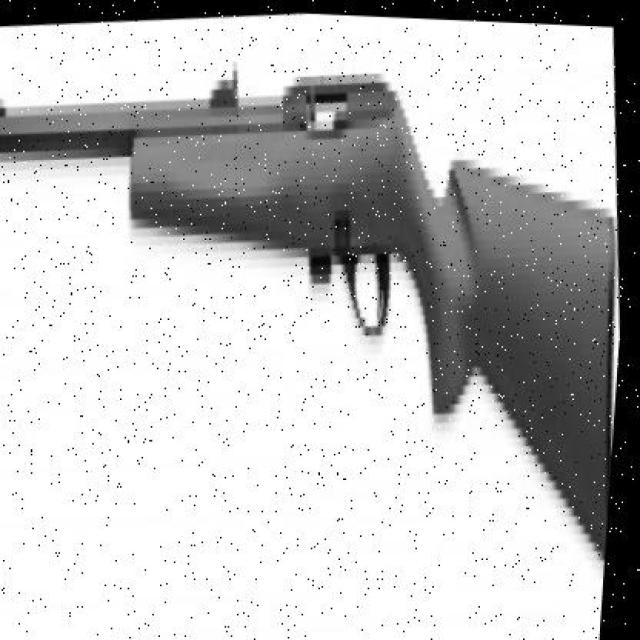weapon: (2, 77, 616, 566)
